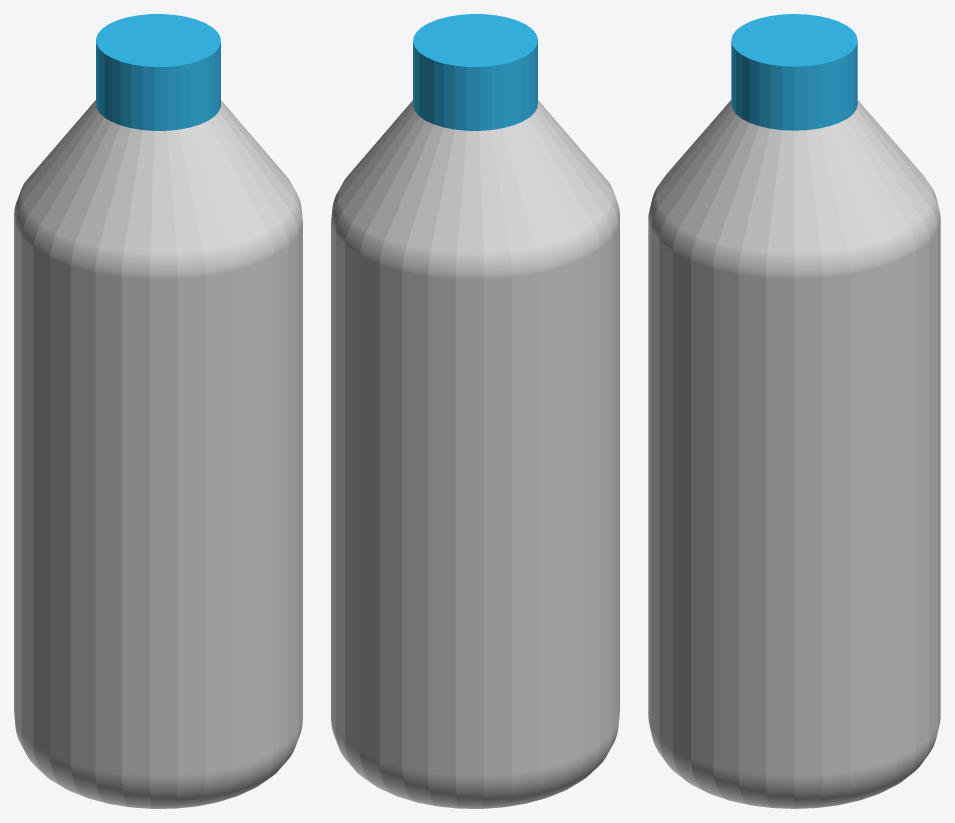
The model's file is Plastic.fbx.
3 views of the same model, side by side, from view 1: azimuth 30°, elevation 25°; view 2: azimuth 150°, elevation 25°; view 3: azimuth 270°, elevation 25° (orthographic).
Visible parts, largest first — view 1: Cylinder; view 2: Cylinder; view 3: Cylinder.
Boxes of the visible parts, bbox=[...] form: Cylinder: bbox=[14, 14, 302, 808]; Cylinder: bbox=[331, 14, 619, 808]; Cylinder: bbox=[648, 14, 940, 808].
Bounding box in the file's own units: 126 × 349 × 127.
